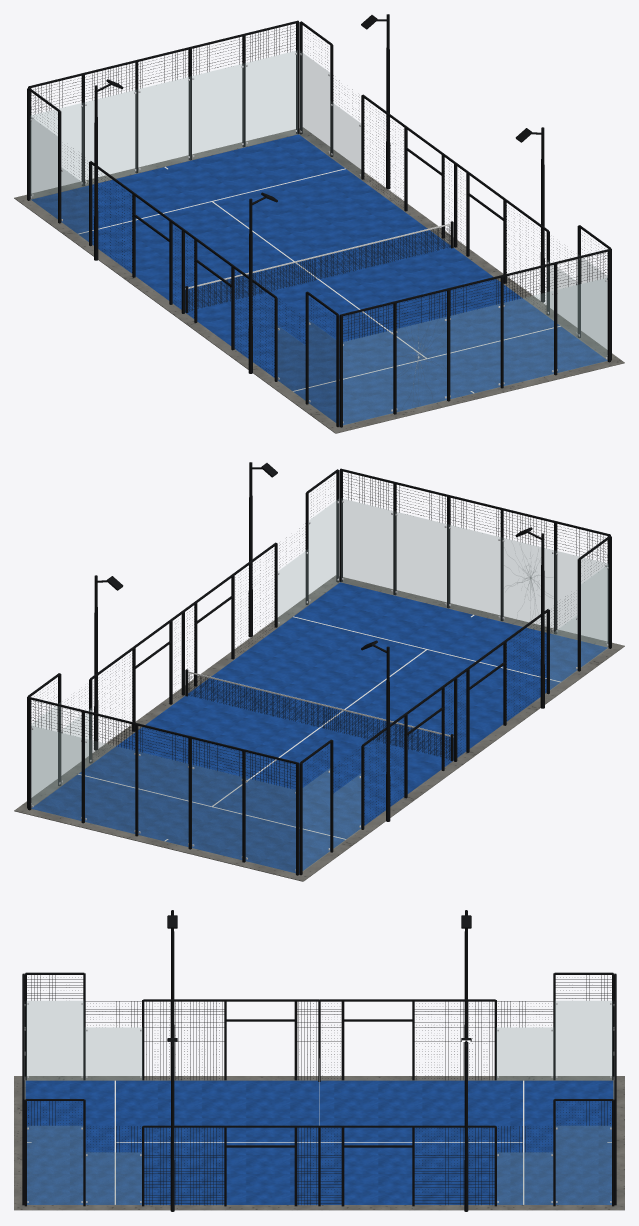
Rendered from pista_padel.glb.
3 renders of one model, top to bottom at view 1: azimuth 30°, elevation 25°; view 2: azimuth 150°, elevation 25°; view 3: azimuth 270°, elevation 25°, orthographic. The views are drawn at different scales.
Parts seen in each view (by area): view 1: pista_padel; view 2: pista_padel; view 3: pista_padel.
Part boxes in pixels (x1,y1,x2,y2): pista_padel: [14, 14, 624, 433]; pista_padel: [14, 462, 624, 881]; pista_padel: [14, 910, 624, 1211].
Size of the model in its own units: 11.04 by 6.26 by 20.8.
Materials: 13 (5 with a texture image).
